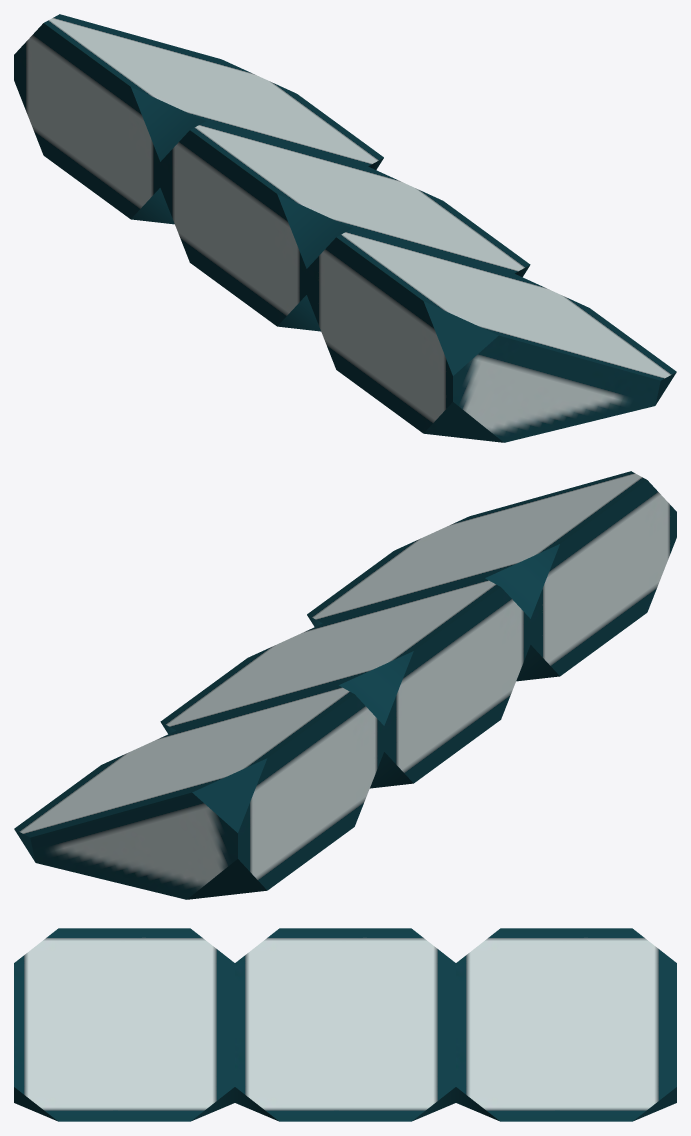
Rendered from MG-ChangJing-CeShi-BianPo-3.FBX.
The picture shows the model from 3 angles, top to bottom: view 1: azimuth 30°, elevation 25°; view 2: azimuth 150°, elevation 25°; view 3: azimuth 270°, elevation 25°; orthographic projection. The views are drawn at different scales.
Visible parts, largest first — view 1: MG-ChangJing-CeShi-BianPo-3; view 2: MG-ChangJing-CeShi-BianPo-3; view 3: MG-ChangJing-CeShi-BianPo-3.
Part boxes in pixels (x1=…): MG-ChangJing-CeShi-BianPo-3: x1=14, y1=14, x2=676, y2=442; MG-ChangJing-CeShi-BianPo-3: x1=14, y1=471, x2=676, y2=899; MG-ChangJing-CeShi-BianPo-3: x1=14, y1=928, x2=676, y2=1121.
Bounding box in the file's own units: 39.37 × 19.69 × 118.
